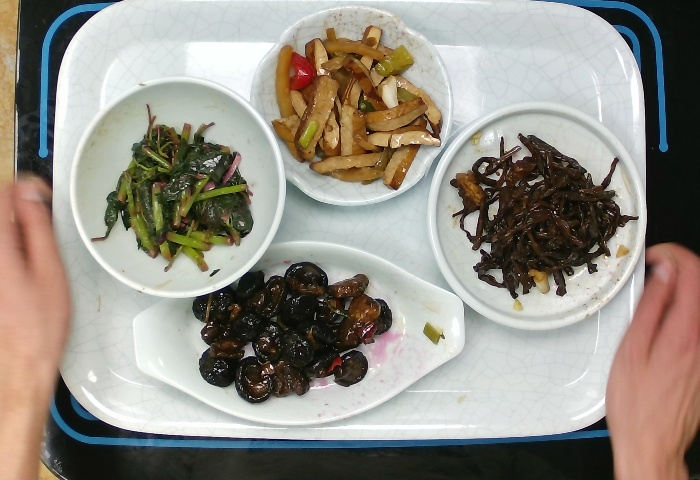JYsf-Ao_Yuan_Wan: (244, 1, 462, 210)
JYsf-Fan_Wan: (63, 74, 290, 302)
JYsf-Xiao_Yuan_Pan: (421, 95, 650, 336)
JYsf-Yu_Pan: (122, 234, 472, 429)
